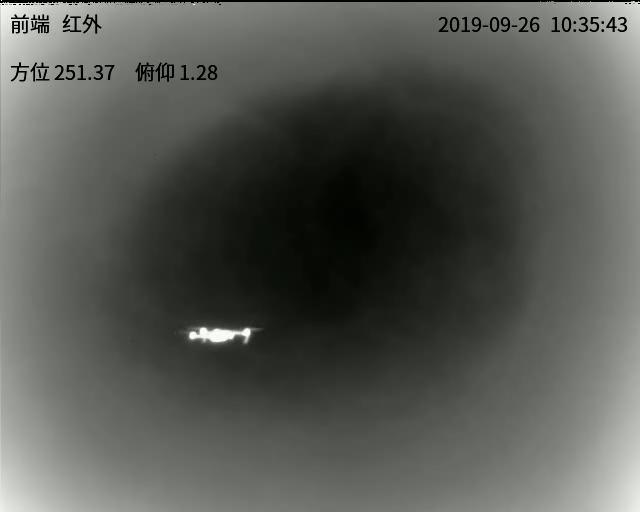uav: (179, 324, 256, 348)
